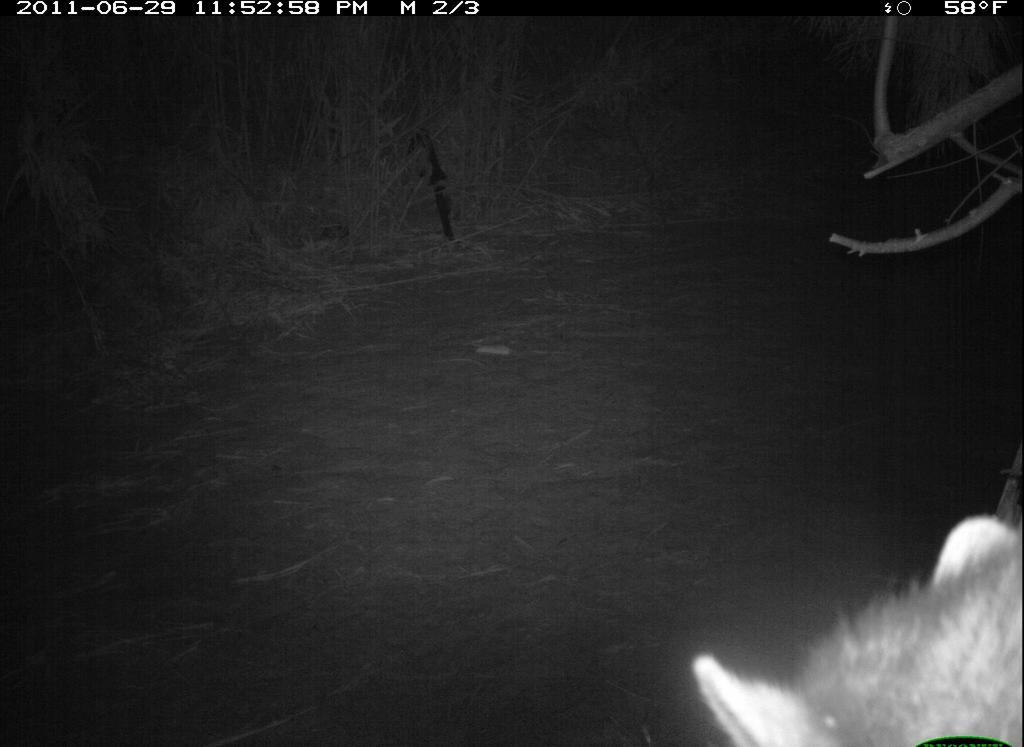raccoon: (681, 502, 1022, 744)
